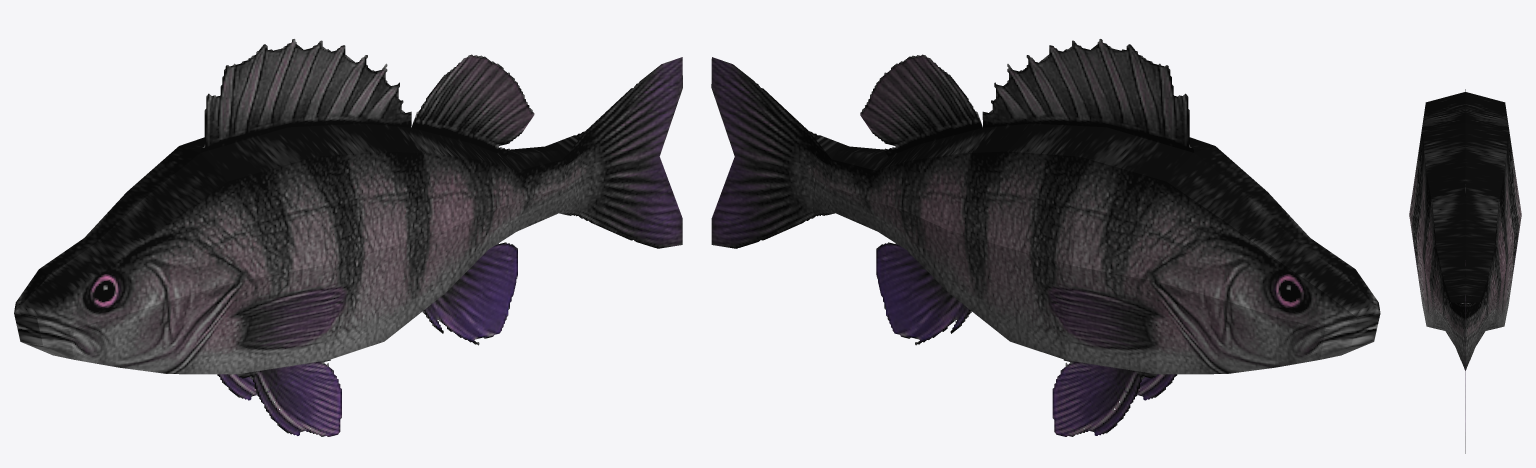
The model's file is Duskperch.fbx.
The picture shows the model from 3 angles, left to right: view 1: azimuth 30°, elevation 25°; view 2: azimuth 150°, elevation 25°; view 3: azimuth 270°, elevation 25°; orthographic projection. The views are drawn at different scales.
Parts seen in each view (by area): view 1: Perch; view 2: Perch; view 3: Perch.
Part boxes in pixels (x1,y1,x2,y2): Perch: (14,39,682,436); Perch: (711,39,1380,436); Perch: (1409,89,1521,453).
Size of the model in its own units: 137 by 77.27 by 24.52.
Materials: 1 (1 with a texture image).
